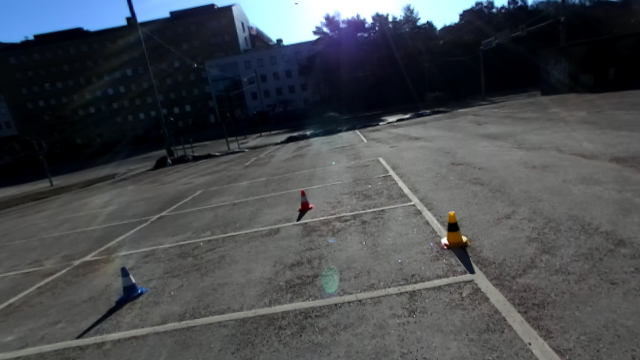blue: (114, 263, 149, 303)
orange: (295, 188, 315, 213)
yellow: (438, 208, 469, 249)
